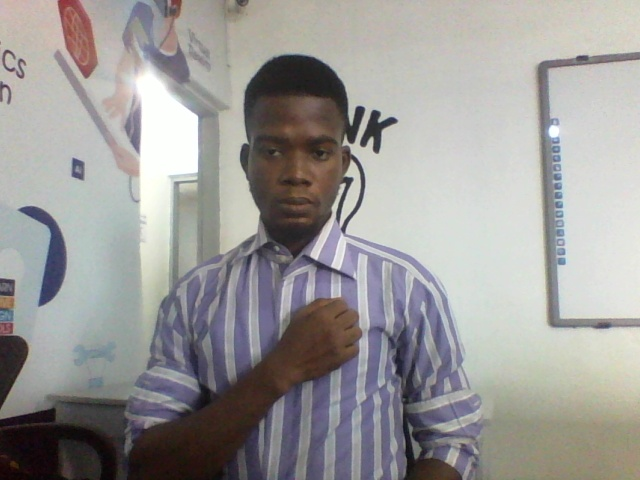sorry: (196, 296, 367, 432)
